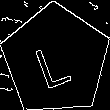L_N: (33, 30, 79, 89)
